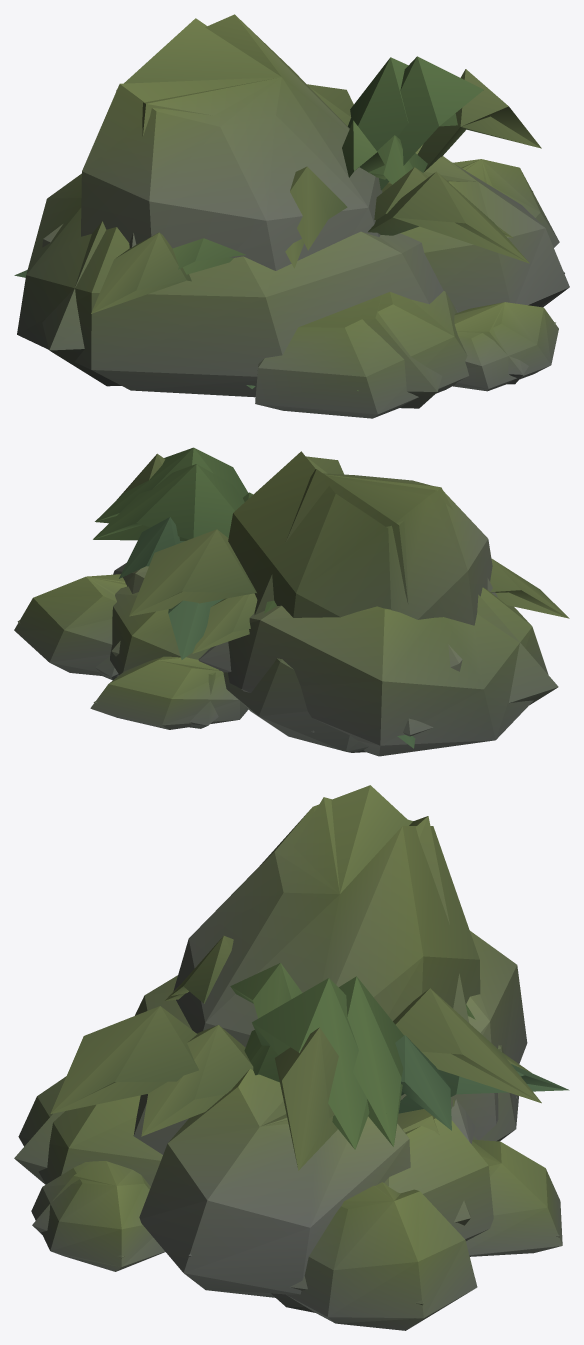
Rendered from woodland-props.glb.
3 views of the same model, one above another, from view 1: azimuth 30°, elevation 25°; view 2: azimuth 150°, elevation 25°; view 3: azimuth 270°, elevation 25° (orthographic). The views are drawn at different scales.
Parts seen in each view (by area): view 1: WoodlandBoulder_Spires_Near, WoodlandBoulder_Slab_Near, WoodlandBoulder_Cobbles_Near, WoodlandBush_Mound_Near, WoodlandBoulder_Spires_Mid, WoodlandBush_Twin_Near, WoodlandBush_Mound_Mid, WoodlandBoulder_Slab_Mid, WoodlandBush_Spread_Mid, WoodlandBush_Twin_Mid, WoodlandBoulder_Cobbles_Mid, WoodlandBush_Spread_Near; view 2: WoodlandBoulder_Slab_Near, WoodlandBoulder_Spires_Near, WoodlandBoulder_Cobbles_Near, WoodlandBush_Mound_Near, WoodlandBush_Spread_Near, WoodlandBush_Twin_Near, WoodlandBoulder_Spires_Mid, WoodlandBoulder_Slab_Mid, WoodlandBush_Spread_Mid, WoodlandBush_Mound_Mid, WoodlandBush_Twin_Mid; view 3: WoodlandBoulder_Spires_Near, WoodlandBoulder_Slab_Near, WoodlandBush_Mound_Near, WoodlandBoulder_Cobbles_Near, WoodlandBush_Spread_Near, WoodlandBush_Twin_Near, WoodlandBoulder_Spires_Mid, WoodlandBush_Mound_Mid, WoodlandBoulder_Slab_Mid, WoodlandBoulder_Cobbles_Mid, WoodlandBush_Twin_Mid, WoodlandBush_Spread_Mid.
Boxes of the visible parts, x1,y1,x2,y2 form: WoodlandBoulder_Spires_Near: [81, 14, 569, 312]; WoodlandBoulder_Slab_Near: [17, 159, 559, 397]; WoodlandBoulder_Cobbles_Near: [42, 224, 468, 418]; WoodlandBush_Mound_Near: [173, 56, 529, 390]; WoodlandBoulder_Spires_Mid: [116, 18, 564, 273]; WoodlandBush_Twin_Near: [91, 69, 541, 388]; WoodlandBush_Mound_Mid: [183, 56, 528, 274]; WoodlandBoulder_Slab_Mid: [42, 159, 555, 386]; WoodlandBush_Spread_Mid: [15, 57, 512, 277]; WoodlandBush_Twin_Mid: [92, 69, 541, 313]; WoodlandBoulder_Cobbles_Mid: [359, 294, 442, 408]; WoodlandBush_Spread_Near: [14, 57, 512, 275]; WoodlandBoulder_Slab_Near: [14, 576, 548, 756]; WoodlandBoulder_Spires_Near: [90, 451, 492, 729]; WoodlandBoulder_Cobbles_Near: [110, 586, 462, 752]; WoodlandBush_Mound_Near: [95, 447, 344, 616]; WoodlandBush_Spread_Near: [93, 464, 413, 748]; WoodlandBush_Twin_Near: [117, 454, 569, 659]; WoodlandBoulder_Spires_Mid: [93, 469, 497, 728]; WoodlandBoulder_Slab_Mid: [17, 574, 558, 736]; WoodlandBush_Spread_Mid: [93, 464, 415, 747]; WoodlandBush_Mound_Mid: [95, 448, 327, 616]; WoodlandBush_Twin_Mid: [149, 454, 568, 659]; WoodlandBoulder_Spires_Near: [139, 785, 562, 1297]; WoodlandBoulder_Slab_Near: [31, 931, 527, 1330]; WoodlandBush_Mound_Near: [50, 936, 541, 1149]; WoodlandBoulder_Cobbles_Near: [18, 1045, 518, 1240]; WoodlandBush_Spread_Near: [141, 976, 531, 1146]; WoodlandBush_Twin_Near: [244, 1004, 568, 1170]; WoodlandBoulder_Spires_Mid: [188, 797, 559, 1256]; WoodlandBush_Mound_Mid: [51, 988, 540, 1148]; WoodlandBoulder_Slab_Mid: [32, 1099, 475, 1312]; WoodlandBoulder_Cobbles_Mid: [14, 1095, 517, 1225]; WoodlandBush_Twin_Mid: [275, 1015, 568, 1169]; WoodlandBush_Spread_Mid: [142, 1025, 402, 1145].
Size of the model in its own units: 1.64 by 0.8345 by 1.23.
